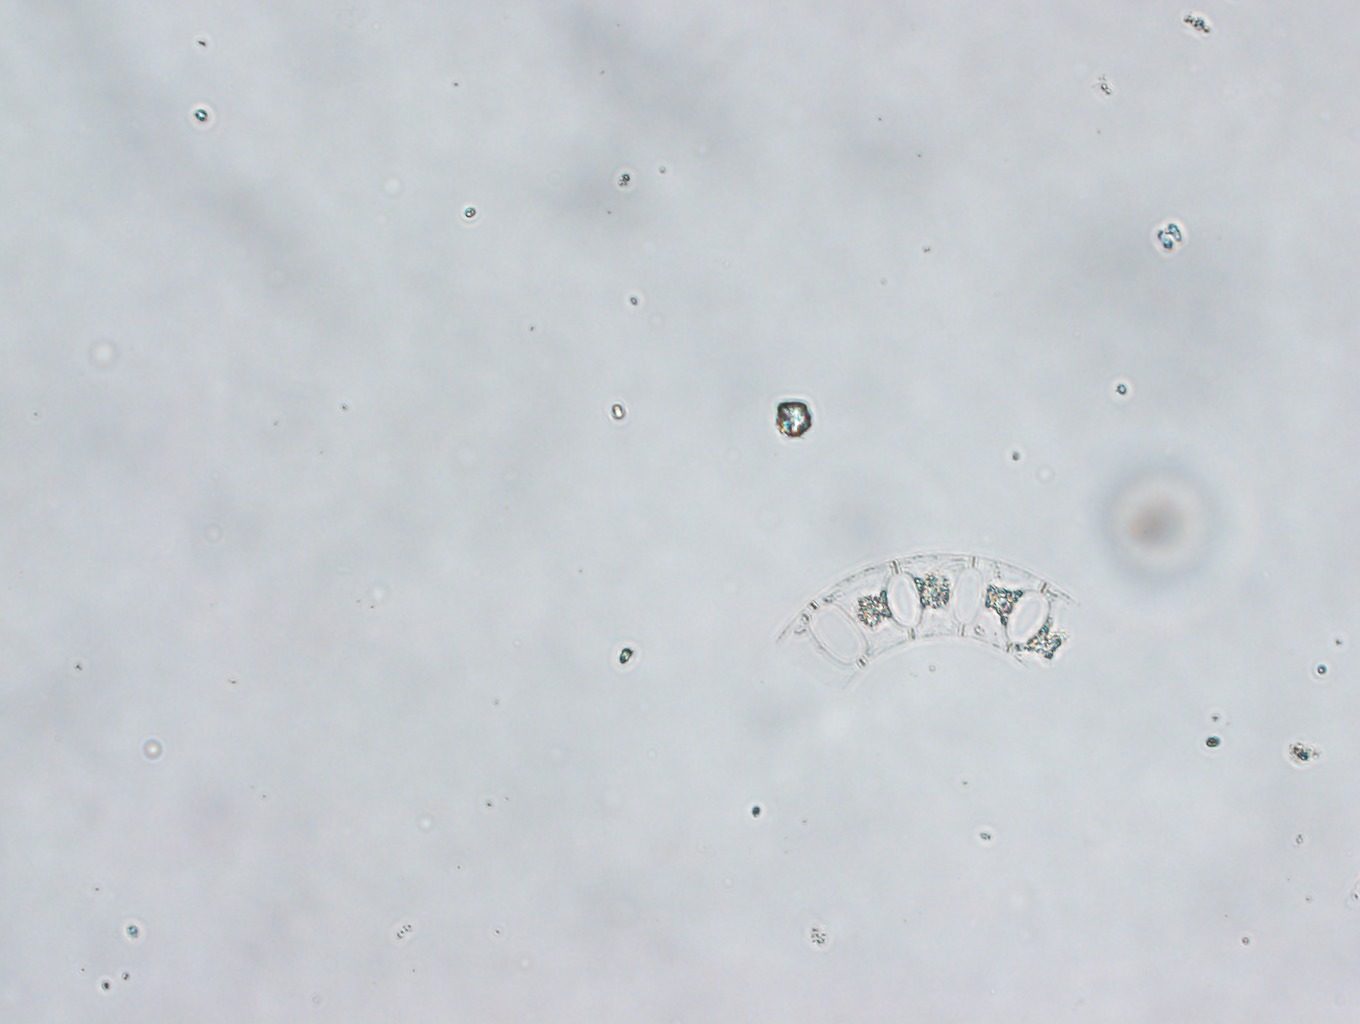eucampia: (774, 550, 1088, 689)
